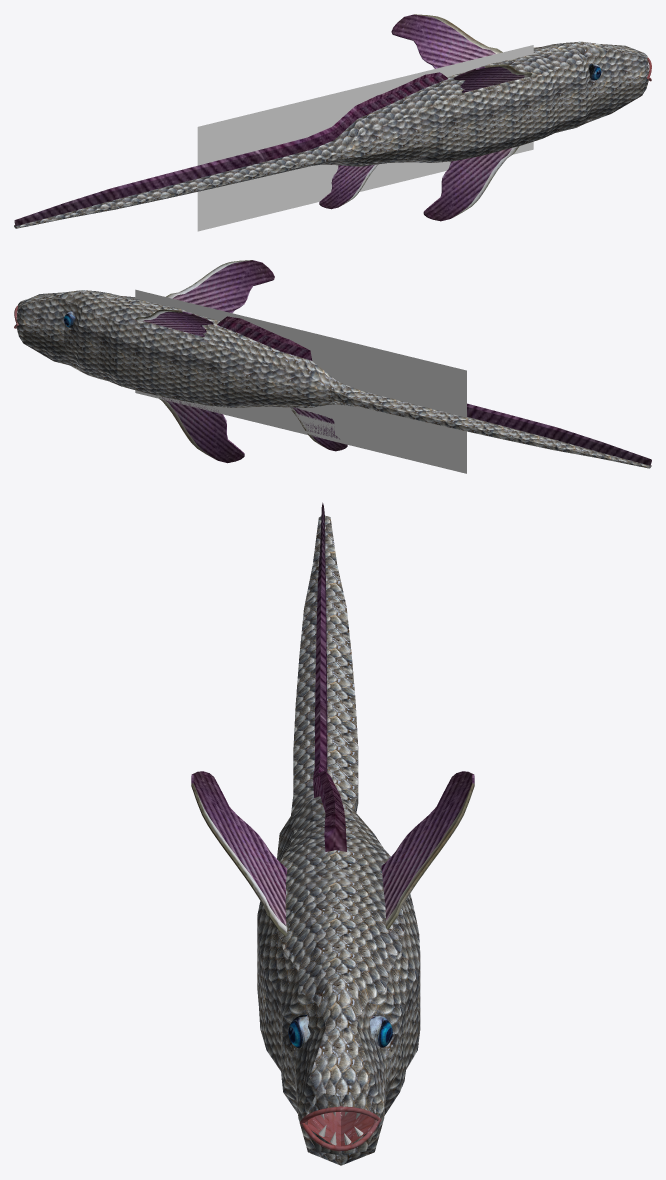
Rendered from Lake Monster.fbx.
3 views of the same model, one above another, from view 1: azimuth 30°, elevation 25°; view 2: azimuth 150°, elevation 25°; view 3: azimuth 270°, elevation 25° (orthographic). The views are drawn at different scales.
Visible parts, largest first — view 1: Lake Monster, Plane, Fin.003, Fin.001, Fin, Fin.002; view 2: Lake Monster, Plane, Fin.002, Fin.001, Fin.003, Fin; view 3: Lake Monster, Fin.002, Fin.003, Lips.
Boxes of the visible parts, x1=… form: Lake Monster: x1=14, y1=41, x2=649, y2=228; Plane: x1=197, y1=45, x2=533, y2=231; Fin.003: x1=391, y1=14, x2=502, y2=68; Fin.001: x1=423, y1=146, x2=519, y2=221; Fin: x1=319, y1=164, x2=378, y2=209; Fin.002: x1=453, y1=64, x2=532, y2=92; Lake Monster: x1=16, y1=290, x2=651, y2=468; Plane: x1=135, y1=289, x2=466, y2=473; Fin.002: x1=166, y1=260, x2=274, y2=313; Fin.001: x1=159, y1=396, x2=244, y2=463; Fin.003: x1=135, y1=309, x2=213, y2=336; Fin: x1=290, y1=407, x2=347, y2=451; Lake Monster: x1=257, y1=502, x2=420, y2=1165; Fin.002: x1=191, y1=771, x2=287, y2=935; Fin.003: x1=381, y1=771, x2=474, y2=929; Lips: x1=300, y1=1106, x2=381, y2=1151.
Bounding box in the file's own units: 1275 × 340 × 248.
9 materials, 8 textured.
